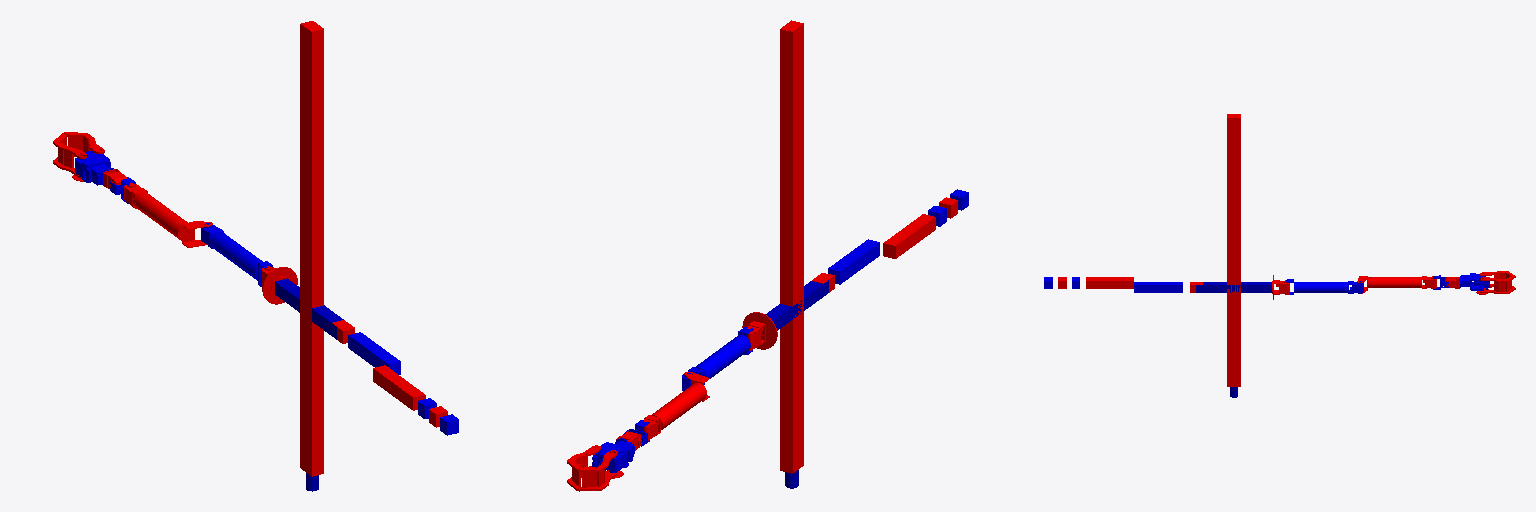
URDF robot description (manipulator):
<?xml version="1.0"?>
<robot name="manipulator">
  <material name="red">
    <color rgba="1.0 0.0 0.0 1.0"/>
  </material>
  <material name="green">
    <color rgba="0.0 1.0 0.0 1.0"/>
  </material>
  <material name="blue">
    <color rgba="0.0 0.0 1.0 1.0"/>
  </material>

  <link name="world"/>
  <joint name="world2base" type="fixed">
    <parent link="world"/>
    <child link="base_link"/>
  </joint>
  <link name="base_link">
    <visual>
      <origin xyz="0 0 0.044" rpy="0 0 0" />
      <geometry>
        <cylinder radius="0.015" length="0.088"/>
      </geometry>
      <material name="blue">
        <color rgba="0 0 .8 1"/>
      </material>
    </visual>
    <inertial>
      <mass value="0.5"/>
      <origin xyz="0 0 0"/>
      <inertia ixx="1.0" ixy="0.0" ixz="0.0" iyy="1.0" iyz="0.0" izz="1.0"/>
    </inertial>

  </link>
  <joint name="spine_joint" type="fixed">
    <origin xyz="0 0 0.044" rpy="0 0 0"/>
    <parent link="base_link"/>
    <child link="spine_link"/>
  </joint>

  <link name="spine_link">
    <inertial>
      <mass value="0.5"/>
      <origin xyz="0 0 0"/>
      <inertia ixx="1.0" ixy="0.0" ixz="0.0" iyy="1.0" iyz="0.0" izz="1.0"/>
    </inertial>
    <visual>
      <origin xyz="0 0 0.55" rpy="0 0 0"/>
      <geometry>
        <box size="0.0330 0.0520 1.1"/>
      </geometry>
      <material name="red"/>
    </visual>
    <collision>
      <origin xyz="0 0 0.55" rpy="0 0 0"/>
      <geometry>
        <box size="0.0330 0.0520 1.1"/>
      </geometry>
    </collision>
  </link>

  <joint name="sholder_slider" type="prismatic">
    <origin xyz="0 0 0.4" rpy="0 0 0"/>
    <parent link="spine_link"/>
    <child link="sholder_link"/>
    <axis xyz="0 0 1"/>
    <limit effort="1000" lower="-0.2" upper="1.4" velocity="1.0"/>
  </joint>

  <link name="sholder_link">
    <inertial>
      <mass value="0.5"/>
      <origin xyz="0 0 0"/>
      <inertia ixx="1.0" ixy="0.0" ixz="0.0" iyy="1.0" iyz="0.0" izz="1.0"/>
    </inertial>
    <visual>
      <origin xyz="0 0 0" rpy="0 0 0"/>
      <geometry>
        <box size="0.0330 0.28 0.0320"/>
      </geometry>
      <material name="blue">
        <color rgba="0 0 .8 1"/>
      </material>
    </visual>
    <collision>
      <origin xyz="0.0 0.0 0.0" rpy="0 0 0"/>
      <geometry>
        <box size="0.0330 0.28 0.0320"/>
      </geometry>
    </collision>
  </link>

  <gazebo reference="sholder_link">
    <material>Gazebo/Blue</material>
  </gazebo>
  <transmission name="trans_sholder_slider">
    <type>transmission_interface/SimpleTransmission</type>
    <joint name="sholder_slider">
      <hardwareInterface>PositionJointInterface</hardwareInterface>
    </joint>
    <actuator name="motor_sholder_slider">
      <hardwareInterface>PositionJointInterface</hardwareInterface>
      <mechanicalReduction>1</mechanicalReduction>
    </actuator>
  </transmission>


  <!--left arm-->
  <joint name="l_sholder_pitch_joint" type="revolute">
    <origin xyz="0 0.14 0" rpy="0 1.57 0"/>
    <parent link="sholder_link"/>
    <child link="l_sholder_pitch_link"/>
    <axis xyz="0 1 0"/> 
    <limit lower="-1" upper="1" effort="30" velocity="1.571"/>
  </joint>

  <link name="l_sholder_pitch_link">
    <inertial>
      <mass value="0.5"/>
      <origin xyz="0 0 0"/>
      <inertia ixx="1.0" ixy="0.0" ixz="0.0" iyy="1.0" iyz="0.0" izz="1.0"/>
    </inertial>
    <visual>
      <origin xyz="0 0 0" rpy="0 0 0"/>
      <geometry>
        <mesh filename="package://cit_description/meshes/shoulder_pitch.stl" scale="0.01 0.01 0.01"/>
        <!-- <box size="0.0330 0.050 0.0320"/> -->
      </geometry>
      <material name="red"/>
    </visual>
    <collision>
      <origin xyz="0.0 0.0 0.0" rpy="0 0 0"/>
      <geometry>
        <box size="0.050 0.05 0.032"/>
      </geometry>
    </collision>
  </link>
  <gazebo reference="l_sholder_pitch_link">
    <material>Gazebo/Red</material>
  </gazebo>
  <transmission name="trans_l_sholder_pitch">
    <type>transmission_interface/SimpleTransmission</type>
    <joint name="l_sholder_pitch_joint">
      <hardwareInterface>PositionJointInterface</hardwareInterface>
    </joint>
    <actuator name="motor_l_sholder_pitch">
      <hardwareInterface>PositionJointInterface</hardwareInterface>
      <mechanicalReduction>1</mechanicalReduction>
    </actuator>
  </transmission>

  <joint name="l_sholder_roll_joint" type="revolute">
    <origin xyz="0 0.055 0" rpy="1.57 0 0"/>
    <parent link="l_sholder_pitch_link"/>
    <child link="l_sholder_roll_link"/>
    <axis xyz="1 0 0"/> 
    <limit lower="-1.57" upper="1.57" effort="30" velocity="1.571"/>
  </joint>

  <link name="l_sholder_roll_link">
    <inertial>
      <mass value="0.5"/>
      <origin xyz="0 0 0"/>
      <inertia ixx="1.0" ixy="0.0" ixz="0.0" iyy="1.0" iyz="0.0" izz="1.0"/>
    </inertial>
    <visual>
      <origin xyz="0 0 0" rpy="0 0 0"/>
      <geometry>
        <mesh filename="package://cit_description/meshes/shoulder_roll.stl" scale="0.01 0.01 0.01"/>
      </geometry>
      <material name="blue"/>
    </visual>
    <collision>
      <origin xyz="0.0 0.0 -0.035" rpy="0 0 0"/>
      <geometry>
        <box size="0.042 0.042 0.200"/>
      </geometry>
    </collision>
  </link>
  <gazebo reference="l_sholder_roll_link">
    <material>Gazebo/Blue</material>
  </gazebo>
  <transmission name="trans_l_sholder_roll">
    <type>transmission_interface/SimpleTransmission</type>
    <joint name="l_sholder_roll_joint">
      <hardwareInterface>PositionJointInterface</hardwareInterface>
    </joint>
    <actuator name="motor_l_sholder_roll">
      <hardwareInterface>PositionJointInterface</hardwareInterface>
      <mechanicalReduction>1</mechanicalReduction>
    </actuator>
  </transmission>

  <joint name="l_elbow_roll_joint" type="revolute">
    <origin xyz="0 0 -0.271" rpy="0 0 0"/>
    <parent link="l_sholder_roll_link"/>
    <child link="l_elbow_roll_link"/>
    <axis xyz="1 0 0"/> 
    <limit lower="0.0" upper="3.14" effort="30" velocity="1.571"/>
  </joint>

  <link name="l_elbow_roll_link">
    <inertial>
      <mass value="0.5"/>
      <origin xyz="0 0 0"/>
      <inertia ixx="1.0" ixy="0.0" ixz="0.0" iyy="1.0" iyz="0.0" izz="1.0"/>
    </inertial>
    <visual>
      <origin xyz="0 0 0" rpy="0 0 0"/>
      <geometry>
        <mesh filename="package://cit_description/meshes/elbow_roll.stl" scale="0.01 0.01 0.01"/>
        <!-- <box size="0.0330 0.0320 0.180"/> -->
      </geometry>
      <material name="red"/>
    </visual>
    <collision>
      <origin xyz="0.0 -0.04 -0.09" rpy="0 0 0"/>
      <geometry>
        <box size="0.042 0.042 0.180"/>
      </geometry>
    </collision>
  </link>
  <gazebo reference="l_elbow_roll_link">
    <material>Gazebo/Red</material>
  </gazebo>
  <transmission name="trans_l_elbow_roll">
    <type>transmission_interface/SimpleTransmission</type>
    <joint name="l_elbow_roll_joint">
      <hardwareInterface>PositionJointInterface</hardwareInterface>
    </joint>
    <actuator name="motor_l_elbow_roll">
      <hardwareInterface>PositionJointInterface</hardwareInterface>
      <mechanicalReduction>1</mechanicalReduction>
    </actuator>
  </transmission>

  <joint name="l_wrist_roll_joint" type="revolute">
    <origin xyz="0 -0.042 -0.271" rpy="0 0 0"/>
    <parent link="l_elbow_roll_link"/>
    <child link="l_wrist_roll_link"/>
    <axis xyz="1 0 0"/> 
    <limit lower="-1.57" upper="1.57" effort="30" velocity="1.571"/>
  </joint>

  <link name="l_wrist_roll_link">
    <inertial>
      <mass value="0.5"/>
      <origin xyz="0 0 0"/>
      <inertia ixx="1.0" ixy="0.0" ixz="0.0" iyy="1.0" iyz="0.0" izz="1.0"/>
    </inertial>
    <visual>
      <origin xyz=" 0 0 0" rpy="0 0 0"/>
      <geometry>
        <mesh filename="package://cit_description/meshes/wrist_roll.stl" scale="0.01 0.01 0.01"/>
        <!-- <box size="0.0330 0.0320 0.0320"/> -->
      </geometry>
      <material name="blue"/>
    </visual>
    <collision>
      <origin xyz="0.0 0.0 -0.016" rpy="0 0 0"/>
      <geometry>
        <box size="0.0330 0.0320 0.0320"/>
      </geometry>
    </collision>
  </link>
  <gazebo reference="l_wrist_roll_link">
    <material>Gazebo/Blue</material>
  </gazebo>
  <transmission name="trans_l_wrist_roll">
    <type>transmission_interface/SimpleTransmission</type>
    <joint name="l_wrist_roll_joint">
      <hardwareInterface>PositionJointInterface</hardwareInterface>
    </joint>
    <actuator name="motor_l_wrist_roll">
      <hardwareInterface>PositionJointInterface</hardwareInterface>
      <mechanicalReduction>1</mechanicalReduction>
    </actuator>
  </transmission>

  <joint name="l_wrist_pitch_joint" type="revolute">
    <origin xyz="0 0 -0.054" rpy="0 0 0"/>
    <parent link="l_wrist_roll_link"/>
    <child link="l_wrist_pitch_link"/>
    <axis xyz="0 -1 0"/> 
    <limit lower="-1.57" upper="1.57" effort="30" velocity="1.571"/>
  </joint>

  <link name="l_wrist_pitch_link">
    <inertial>
      <mass value="0.5"/>
      <origin xyz="0 0 0"/>
      <inertia ixx="1.0" ixy="0.0" ixz="0.0" iyy="1.0" iyz="0.0" izz="1.0"/>
    </inertial>
    <visual>
      <origin xyz="0 0 0" rpy="0 0 0"/>
      <geometry>
        <mesh filename="package://cit_description/meshes/wrist_pitch.stl" scale="0.01 0.01 0.01"/>
        <!-- <box size="0.0330 0.0320 0.0320"/> -->
      </geometry>
      <material name="red"/>
    </visual>
    <collision>
      <origin xyz="0.0 0.0 -0.016" rpy="0 0 0"/>
      <geometry>
        <box size="0.0330 0.0320 0.0320"/>
      </geometry>
    </collision>
  </link>
  <gazebo reference="l_wrist_pitch_link">
    <material>Gazebo/Red</material>
  </gazebo>
  <transmission name="trans_l_wrist_pitch">
    <type>transmission_interface/SimpleTransmission</type>
    <joint name="l_wrist_pitch_joint">
      <hardwareInterface>PositionJointInterface</hardwareInterface>
    </joint>
    <actuator name="motor_l_wrist_pitch">
      <hardwareInterface>PositionJointInterface</hardwareInterface>
      <mechanicalReduction>1</mechanicalReduction>
    </actuator>
  </transmission>

  <joint name="l_wrist_yaw_joint" type="revolute">
    <origin xyz="0 0 -0.0443" rpy="0 0 0"/>
    <parent link="l_wrist_pitch_link"/>
    <child link="l_wrist_yaw_link"/>
    <axis xyz="0 0 1"/> 
    <limit lower="-3.14" upper="3.14" effort="30" velocity="1.571"/>
  </joint>

  <link name="l_wrist_yaw_link">
    <inertial>
      <mass value="0.5"/>
      <origin xyz="0 0 0"/>
      <inertia ixx="1.0" ixy="0.0" ixz="0.0" iyy="1.0" iyz="0.0" izz="1.0"/>
    </inertial>
    <visual>
      <origin xyz="0 0 0" rpy="0 0 0"/>
      <geometry>
        <mesh filename="package://cit_description/meshes/wrist_yaw.stl" scale="0.01 0.01 0.01"/>
      </geometry>
      <material name="blue"/>
    </visual>
    <collision>
      <origin xyz="0 0 0" rpy="0 0 0"/>
      <geometry>
        <box size="0.0330 0.0320 0.0320"/>
      </geometry>
    </collision>
  </link>
  <gazebo reference="l_wrist_yaw_link">
    <material>Gazebo/Blue</material>
  </gazebo>
  <transmission name="trans_l_wrist_yaw">
    <type>transmission_interface/SimpleTransmission</type>
    <joint name="l_wrist_yaw_joint">
      <hardwareInterface>PositionJointInterface</hardwareInterface>
    </joint>
    <actuator name="motor_l_wrist_yaw">
      <hardwareInterface>PositionJointInterface</hardwareInterface>
      <mechanicalReduction>1</mechanicalReduction>
    </actuator>
  </transmission>

  <joint name="l_hand_left_joint" type="revolute">
    <origin xyz="0 0.0225 -0.083" rpy="0 0 0"/>
    <parent link="l_wrist_yaw_link"/>
    <child link="l_hand_left_link"/>
    <axis xyz="1 0 0"/> 
    <limit lower="0" upper="1.57" effort="30" velocity="1.571"/>
  </joint>

  <link name="l_hand_left_link">
    <inertial>
      <mass value="0.5"/>
      <origin xyz="0 0 0"/>
      <inertia ixx="1.0" ixy="0.0" ixz="0.0" iyy="1.0" iyz="0.0" izz="1.0"/>
    </inertial>
    <visual>
      <origin xyz="0 0 0" rpy="0 0 0"/>
      <geometry>
        <mesh filename="package://cit_description/meshes/hand_left.stl" scale="0.01 0.01 0.01"/>
      </geometry>
      <material name="red"/>
    </visual>
    <collision>
      <origin xyz="0 0 0" rpy="0 0 0"/>
      <geometry>
        <mesh filename="package://cit_description/meshes/hand_left.stl" scale="0.01 0.01 0.01"/>
      </geometry>
    </collision>
  </link>
  <gazebo reference="l_hand_left_link">
    <material>Gazebo/Red</material>
  </gazebo>
  <transmission name="trans_l_hand_left">
    <type>transmission_interface/SimpleTransmission</type>
    <joint name="l_hand_left_joint">
      <hardwareInterface>PositionJointInterface</hardwareInterface>
    </joint>
    <actuator name="motor_l_hand_left">
      <hardwareInterface>PositionJointInterface</hardwareInterface>
      <mechanicalReduction>1</mechanicalReduction>
    </actuator>
  </transmission>
  
   <joint name="l_hand_right_joint" type="revolute">
    <origin xyz="0 -0.0225 -0.083" rpy="0 0 0"/>
    <parent link="l_wrist_yaw_link"/>
    <child link="l_hand_right_link"/>
    <axis xyz="-1 0 0"/>
    <mimic joint="l_hand_left_joint" multiplier="1.0" offset="0.0" /> 
    <limit lower="-3.14" upper="3.14" effort="30" velocity="1.571"/>
  </joint>

  <link name="l_hand_right_link">
    <inertial>
      <mass value="0.5"/>
      <origin xyz="0 0 0"/>
      <inertia ixx="1.0" ixy="0.0" ixz="0.0" iyy="1.0" iyz="0.0" izz="1.0"/>
    </inertial>
    <visual>
      <origin xyz="0 0 0" rpy="0 0 0"/>
      <geometry>
        <mesh filename="package://cit_description/meshes/hand_right.stl" scale="0.01 0.01 0.01"/>
      </geometry>
      <material name="red"/>
    </visual>
    <collision>
      <origin xyz="0 0 0" rpy="0 0 0"/>
      <geometry>
        <mesh filename="package://cit_description/meshes/hand_right.stl" scale="0.01 0.01 0.01"/>
      </geometry>
    </collision>
  </link>
  <gazebo reference="l_hand_right_link">
    <material>Gazebo/Red</material>
  </gazebo>
  <transmission name="trans_l_right_hand">
    <type>transmission_interface/SimpleTransmission</type>
    <joint name="l_hand_right_joint">
      <hardwareInterface>PositionJointInterface</hardwareInterface>
    </joint>
    <actuator name="motor_l_hand_right">
      <hardwareInterface>PositionJointInterface</hardwareInterface>
      <mechanicalReduction>1</mechanicalReduction>
    </actuator>
  </transmission>

  <!--right arm-->

  <joint name="r_sholder_pitch_joint" type="revolute">
    <origin xyz="0 -0.14 0" rpy="0 1.57 0"/>
    <parent link="sholder_link"/>
    <child link="r_sholder_pitch_link"/>
    <axis xyz="0 1 0"/> 
    <limit lower="-1" upper="1" effort="30" velocity="1.571"/>
  </joint>

  <link name="r_sholder_pitch_link">
    <inertial>
      <mass value="0.5"/>
      <origin xyz="0 0 0"/>
      <inertia ixx="1.0" ixy="0.0" ixz="0.0" iyy="1.0" iyz="0.0" izz="1.0"/>
    </inertial>
    <visual>
      <origin xyz="0 0 0" rpy="0 0 0" />
      <geometry>
        <box size="0.0330 0.050 0.0320"/>
      </geometry>
      <material name="red"/>
    </visual>
    <collision>
      <origin xyz="0.0 0.0 0.0" rpy="0 0 0"/>
      <geometry>
        <box size="0.0330 0.05 0.0320"/>
      </geometry>
    </collision>
  </link>
  <gazebo reference="r_sholder_pitch_link">
    <material>Gazebo/Red</material>
  </gazebo>
  <transmission name="trans_r_sholder_pitch">
    <type>transmission_interface/SimpleTransmission</type>
    <joint name="r_sholder_pitch_joint">
      <hardwareInterface>PositionJointInterface</hardwareInterface>
    </joint>
    <actuator name="motor_r_sholder_pitch">
      <hardwareInterface>PositionJointInterface</hardwareInterface>
      <mechanicalReduction>1</mechanicalReduction>
    </actuator>
  </transmission>

  <joint name="r_sholder_roll_joint" type="revolute">
    <origin xyz="0 -0.05 0" rpy="-1.57 0 0"/>
    <parent link="r_sholder_pitch_link"/>
    <child link="r_sholder_roll_link"/>
    <axis xyz="1 0 0"/> 
    <limit lower="-1.57" upper="1.57" effort="30" velocity="1.571"/>
  </joint>

  <link name="r_sholder_roll_link">
    <inertial>
      <mass value="0.5"/>
      <origin xyz="0 0 0"/>
      <inertia ixx="1.0" ixy="0.0" ixz="0.0" iyy="1.0" iyz="0.0" izz="1.0" />
    </inertial>
    <visual>
      <origin xyz="0 0 -0.09" rpy="0 0 0"/>
      <geometry>
        <box size="0.0330 0.0320 0.180"/>
      </geometry>
      <material name="blue"/>
    </visual>
    <collision>
      <origin xyz="0.0 0.0 -0.09" rpy="0 0 0"/>
      <geometry>
        <box size="0.0330 0.0320 0.180"/>
      </geometry>
    </collision>
  </link>
  <gazebo reference="r_sholder_roll_link">
    <material>Gazebo/Blue</material>
  </gazebo>
  <transmission name="trans_r_sholder_roll">
    <type>transmission_interface/SimpleTransmission</type>
    <joint name="r_sholder_roll_joint">
      <hardwareInterface>PositionJointInterface</hardwareInterface>
    </joint>
    <actuator name="motor_r_sholder_roll">
      <hardwareInterface>PositionJointInterface</hardwareInterface>
      <mechanicalReduction>1</mechanicalReduction>
    </actuator>
  </transmission>

  <joint name="r_elbow_roll_joint" type="revolute">
    <origin xyz="0 0 -0.180" rpy="0 0 0"/>
    <parent link="r_sholder_roll_link"/>
    <child link="r_elbow_roll_link"/>
    <axis xyz="1 0 0"/> 
    <limit lower="0.0" upper="3.14" effort="30" velocity="1.571"/>
  </joint>

  <link name="r_elbow_roll_link">
    <inertial>
      <mass value="0.5"/>
      <origin xyz="0 0 0"/>
      <inertia ixx="1.0" ixy="0.0" ixz="0.0" iyy="1.0" iyz="0.0" izz="1.0"/>
    </inertial>
    <visual>
      <origin xyz="0 0.04 -0.09" rpy="0 0 0"/>
      <geometry>
        <box size="0.0330 0.0320 0.180"/>
      </geometry>
      <material name="red"/>
    </visual>
    <collision>
      <origin xyz="0.0 0.04 -0.09" rpy="0 0 0"/>
      <geometry>
        <box size="0.0330 0.0320 0.180"/>
      </geometry>
    </collision>
  </link>
  <gazebo reference="r_elbow_roll_link">
    <material>Gazebo/Red</material>
  </gazebo>
  <transmission name="trans_r_elbow_roll">
    <type>transmission_interface/SimpleTransmission</type>
    <joint name="r_elbow_roll_joint">
      <hardwareInterface>PositionJointInterface</hardwareInterface>
    </joint>
    <actuator name="motor_r_elbow_roll">
      <hardwareInterface>PositionJointInterface</hardwareInterface>
      <mechanicalReduction>1</mechanicalReduction>
    </actuator>
  </transmission>

  <joint name="r_wrist_roll_joint" type="revolute">
    <origin xyz="0 0.04 -0.20" rpy="0 0 0"/>
    <parent link="r_elbow_roll_link"/>
    <child link="r_wrist_roll_link"/>
    <axis xyz="1 0 0"/> 
    <limit lower="-1.57" upper="1.57" effort="30" velocity="1.571"/>
  </joint>

  <link name="r_wrist_roll_link">
    <inertial>
      <mass value="0.5"/>
      <origin xyz="0 0 0"/>
      <inertia ixx="1.0" ixy="0.0" ixz="0.0" iyy="1.0" iyz="0.0" izz="1.0"/>
    </inertial>
    <visual>
      <origin xyz="0 0 -0.016" rpy="0 0 0"/>
      <geometry>
        <box size="0.0330 0.0320 0.0320"/>
      </geometry>
      <material name="blue"/>
    </visual>
    <collision>
      <origin xyz="0.0 0.0 -0.016" rpy="0 0 0"/>
      <geometry>
        <box size="0.0330 0.0320 0.0320"/>
      </geometry>
    </collision>
  </link>
  <gazebo reference="r_wrist_roll_link">
    <material>Gazebo/Blue</material>
  </gazebo>
  <transmission name="trans_r_wrist_roll">
    <type>transmission_interface/SimpleTransmission</type>
    <joint name="r_wrist_roll_joint">
      <hardwareInterface>PositionJointInterface</hardwareInterface>
    </joint>
    <actuator name="motor_r_wrist_roll">
      <hardwareInterface>PositionJointInterface</hardwareInterface>
      <mechanicalReduction>1</mechanicalReduction>
    </actuator>
  </transmission>

  <joint name="r_wrist_pitch_joint" type="revolute">
    <origin xyz="0 0 -0.05" rpy="0 0 0"/>
    <parent link="r_wrist_roll_link"/>
    <child link="r_wrist_pitch_link"/>
    <axis xyz="0 1 0"/> 
    <limit lower="-1.57" upper="1.57" effort="30" velocity="1.571"/>
  </joint>

  <link name="r_wrist_pitch_link">
    <inertial>
      <mass value="0.5"/>
      <origin xyz="0 0 0"/>
      <inertia ixx="1.0" ixy="0.0" ixz="0.0" iyy="1.0" iyz="0.0" izz="1.0"/>
    </inertial>
    <visual>
      <origin xyz="0 0 -0.016" rpy="0 0 0"/>
      <geometry>
        <box size="0.0330 0.0320 0.0320"/>
      </geometry>
      <material name="red"/>
    </visual>
    <collision>
      <origin xyz="0.0 0.0 -0.016" rpy="0 0 0"/>
      <geometry>
        <box size="0.0330 0.0320 0.0320"/>
      </geometry>
    </collision>
  </link>
  <gazebo reference="r_wrist_pitch_link">
    <material>Gazebo/Red</material>
  </gazebo>
  <transmission name="trans_r_wrist_pitch">
    <type>transmission_interface/SimpleTransmission</type>
    <joint name="r_wrist_pitch_joint">
      <hardwareInterface>PositionJointInterface</hardwareInterface>
    </joint>
    <actuator name="motor_r_wrist_pitch">
      <hardwareInterface>PositionJointInterface</hardwareInterface>
      <mechanicalReduction>1</mechanicalReduction>
    </actuator>
  </transmission>

  <joint name="r_wrist_yaw_joint" type="revolute">
    <origin xyz="0 0 -0.05" rpy="0 0 0"/>
    <parent link="r_wrist_pitch_link"/>
    <child link="r_wrist_yaw_link"/>
    <axis xyz="0 0 1"/> 
    <limit lower="-3.14" upper="3.14" effort="30" velocity="1.571"/>
  </joint>

  <link name="r_wrist_yaw_link">
    <inertial>
      <mass value="0.5"/>
      <origin xyz="0 0 0"/>
      <inertia ixx="1.0" ixy="0.0" ixz="0.0" iyy="1.0" iyz="0.0" izz="1.0"/>
    </inertial>
    <visual>
      <origin xyz="0 0 -0.016" rpy="0 0 0"/>
      <geometry>
        <box size="0.0330 0.0320 0.0320"/>
      </geometry>
      <material name="blue"/>
    </visual>
    <collision>
      <origin xyz="0.0 0.0 -0.016" rpy="0 0 0"/>
      <geometry>
        <box size="0.0330 0.0320 0.0320"/>
      </geometry>
    </collision>
  </link>
  <gazebo reference="r_wrist_yaw_link">
    <material>Gazebo/Blue</material>
  </gazebo>
  <transmission name="trans_r_wrist_yaw">
    <type>transmission_interface/SimpleTransmission</type>
    <joint name="r_wrist_yaw_joint">
      <hardwareInterface>PositionJointInterface</hardwareInterface>
    </joint>
    <actuator name="motor_r_wrist_yaw">
      <hardwareInterface>PositionJointInterface</hardwareInterface>
      <mechanicalReduction>1</mechanicalReduction>
    </actuator>
  </transmission>
  <gazebo>
    <plugin name="gazebo_ros_control" filename="libgazebo_ros_control.so">
      <robotNamespace>/manipulator</robotNamespace>
    </plugin>
  </gazebo>
</robot>

--- What the picture shows (computed from the rendered views, not written in the file) ---
The picture shows the robot from 3 angles, left to right: view 1: azimuth 30°, elevation 25°; view 2: azimuth 150°, elevation 25°; view 3: azimuth 270°, elevation 25°; orthographic projection.
Robot: manipulator — 18 links, 17 joints (14 revolute, 1 prismatic, 2 fixed); root link world; default pose: every joint at zero.
Links seen in each view (by area): view 1: spine_link, l_elbow_roll_link, l_sholder_roll_link, sholder_link, r_elbow_roll_link, r_sholder_roll_link, l_wrist_yaw_link, l_sholder_pitch_link, l_hand_right_link, l_hand_left_link; view 2: spine_link, l_elbow_roll_link, l_sholder_roll_link, r_elbow_roll_link, r_sholder_roll_link, sholder_link, l_sholder_pitch_link, l_hand_right_link, l_wrist_yaw_link, l_hand_left_link; view 3: spine_link, l_elbow_roll_link, l_sholder_roll_link, sholder_link, r_elbow_roll_link, r_sholder_roll_link.
Link boxes in pixels (box(x1,y1,x2,y2)): spine_link: box(300, 21, 323, 476); l_elbow_roll_link: box(124, 183, 212, 247); l_sholder_roll_link: box(201, 223, 272, 286); sholder_link: box(275, 278, 343, 339); r_elbow_roll_link: box(373, 365, 425, 410); r_sholder_roll_link: box(348, 332, 400, 374); l_wrist_yaw_link: box(75, 150, 113, 185); l_sholder_pitch_link: box(262, 266, 297, 304); l_hand_right_link: box(53, 133, 86, 181); l_hand_left_link: box(64, 132, 104, 156); spine_link: box(780, 20, 803, 473); l_elbow_roll_link: box(644, 372, 709, 440); l_sholder_roll_link: box(682, 327, 753, 390); r_elbow_roll_link: box(883, 214, 935, 258); r_sholder_roll_link: box(828, 239, 879, 284); sholder_link: box(765, 280, 828, 330); l_sholder_pitch_link: box(742, 312, 777, 350); l_hand_right_link: box(578, 450, 623, 491); l_wrist_yaw_link: box(592, 438, 634, 472); l_hand_left_link: box(567, 445, 600, 490); spine_link: box(1227, 114, 1240, 386); l_elbow_roll_link: box(1357, 276, 1436, 293); l_sholder_roll_link: box(1286, 279, 1363, 294); sholder_link: box(1196, 282, 1271, 292); r_elbow_roll_link: box(1086, 277, 1133, 288); r_sholder_roll_link: box(1134, 282, 1182, 292).
Size in the robot's own frame: 0.1327 by 1.74 by 1.14 metres.
8 mesh visuals loaded from 8 distinct referenced files (8 binary STL).
